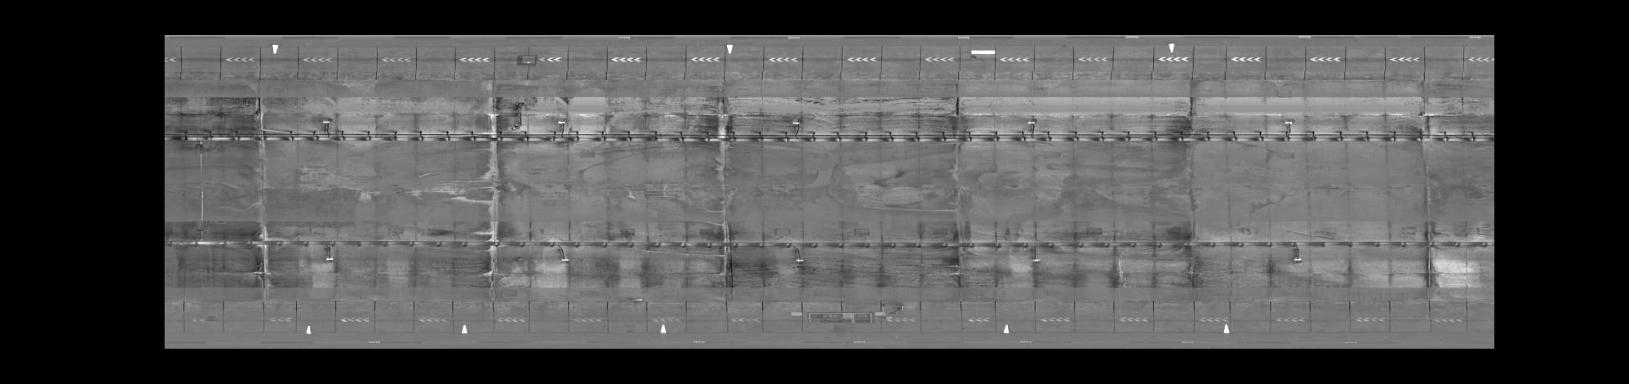light: (320, 253, 342, 267), (552, 118, 571, 128), (555, 255, 575, 265), (319, 116, 335, 127), (790, 256, 808, 265), (1290, 254, 1305, 265), (789, 118, 804, 128), (1027, 255, 1043, 265), (1279, 119, 1296, 127), (1022, 118, 1038, 126)
